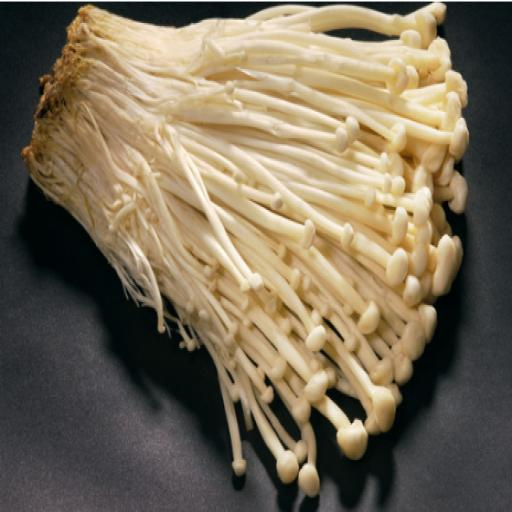Enoki Mushroom: (21, 1, 474, 505)
